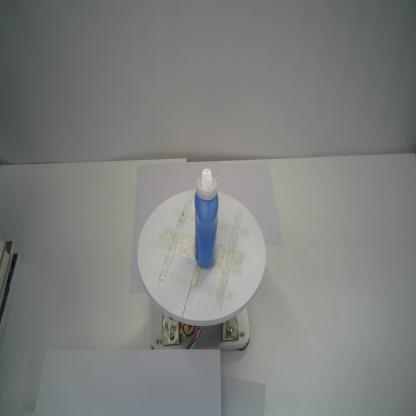Personal Hygiene: (194, 168, 219, 270)
